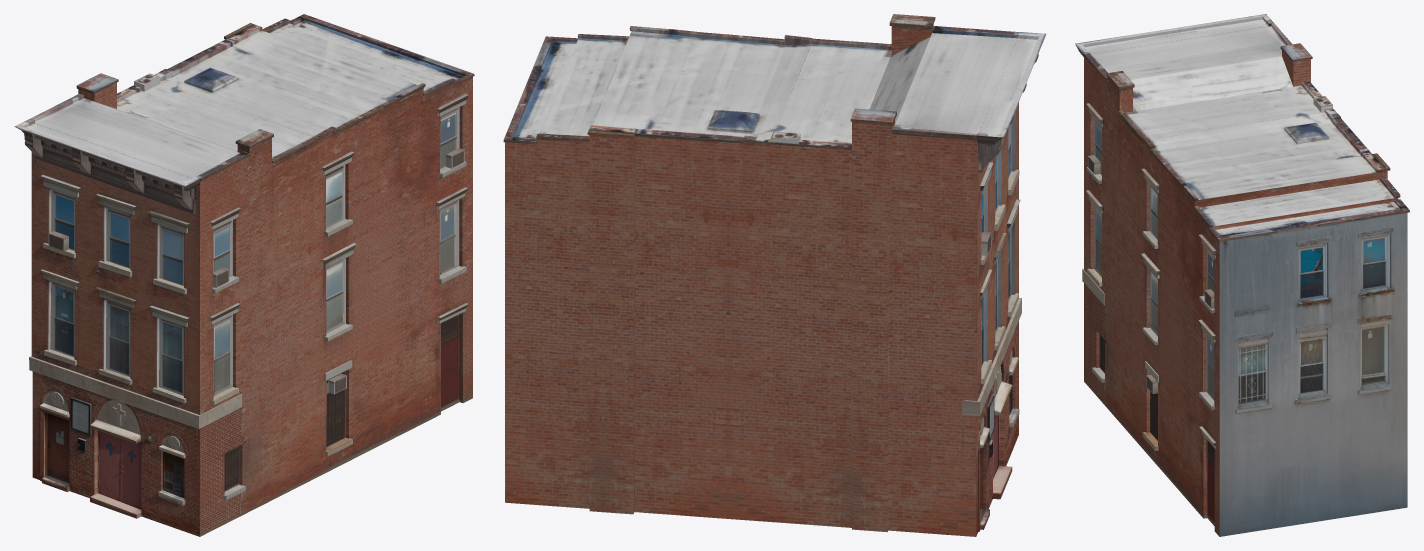
Rendered from B1_old.glb.
The picture shows the model from 3 angles, left to right: view 1: azimuth 30°, elevation 25°; view 2: azimuth 150°, elevation 25°; view 3: azimuth 270°, elevation 25°; orthographic projection. The views are drawn at different scales.
Parts seen in each view (by area): view 1: fc2_low.001_0; view 2: fc2_low.001_0; view 3: fc2_low.001_0.
Part boxes in pixels (<box>): fc2_low.001_0: <box>14,14,474,536</box>; fc2_low.001_0: <box>503,14,1046,536</box>; fc2_low.001_0: <box>1075,14,1409,536</box>.
Size of the model in its own units: 49.18 by 39.68 by 35.78.
1 material, 1 textured.
